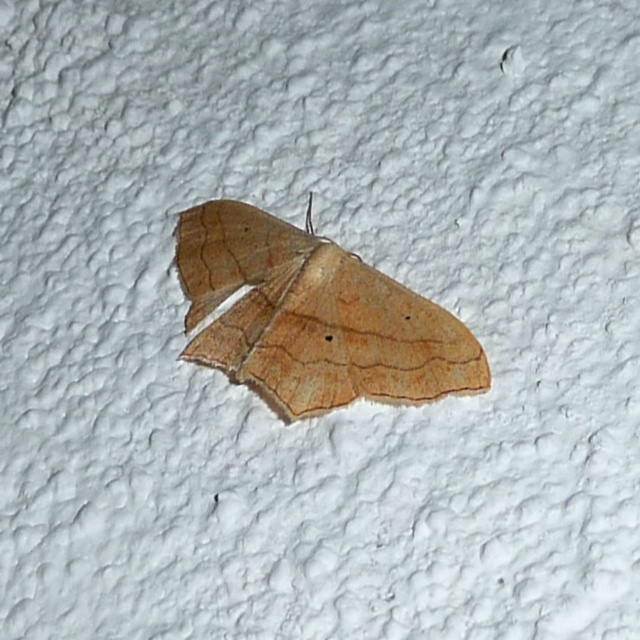Butterfly: (171, 171, 501, 435)
